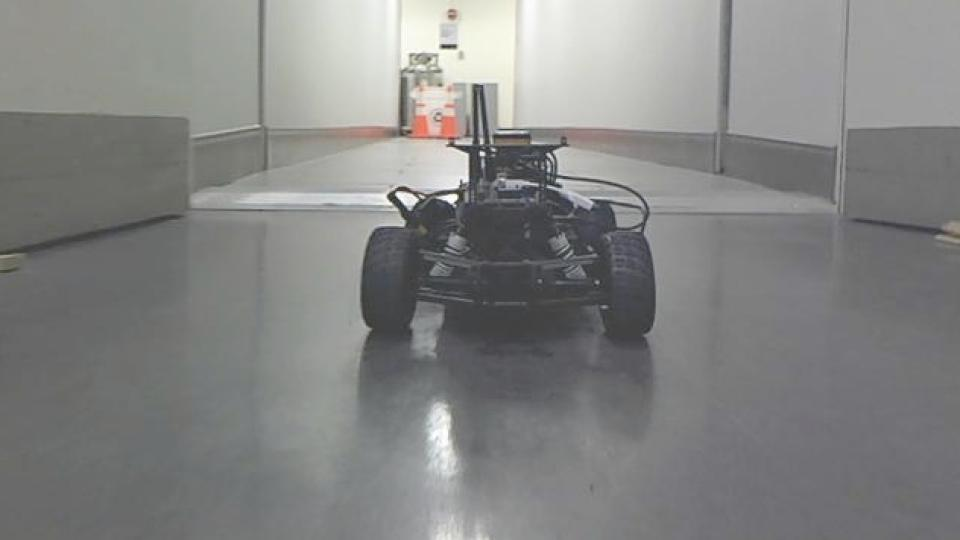car: (356, 80, 660, 343)
